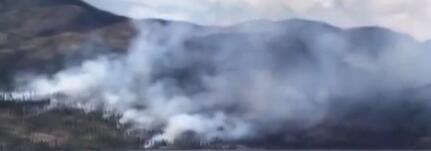yanwu: (4, 0, 430, 143)
